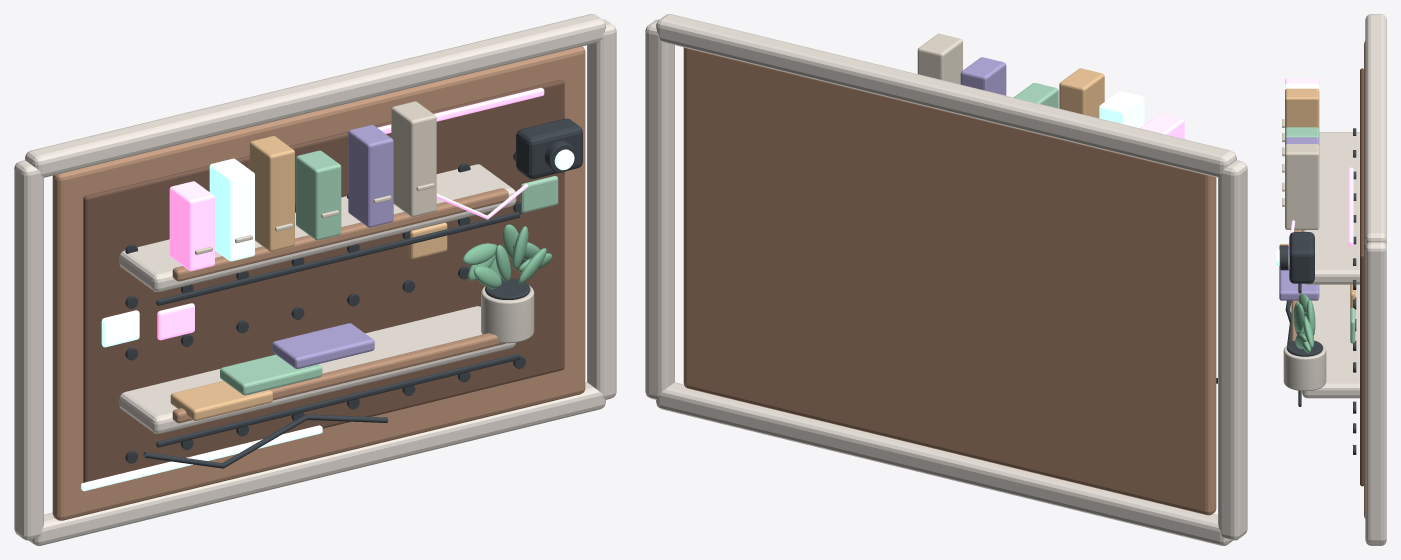
Rendered from p2s_bruno_room_detail_kit.glb.
3 views of the same model, side by side, from view 1: azimuth 30°, elevation 25°; view 2: azimuth 150°, elevation 25°; view 3: azimuth 270°, elevation 25° (orthographic). The views are drawn at different scales.
Visible parts, largest first — view 1: pegboard_shadow_inset, pegboard_back_panel, pegboard_top_frame, pegboard_bottom_frame, pegboard_left_frame, pegboard_right_frame, floating_display_shelf_0, floating_display_shelf_1, upper_book_5, upper_book_2, upper_book_4, upper_book_1 (+18 smaller); view 2: pegboard_back_panel, pegboard_top_frame, pegboard_bottom_frame, pegboard_left_frame, pegboard_right_frame, upper_book_5, upper_book_2, upper_book_4, upper_book_1, upper_book_3, upper_book_0; view 3: pegboard_right_frame, floating_display_shelf_1, pegboard_top_frame, floating_display_shelf_0, upper_book_5, pegboard_shadow_inset, plant_pot, upper_book_2, mini_camera_body, pegboard_back_panel, lower_stacked_book_2, warm_led_bar (+12 smaller).
Part boxes in pixels (x1,y1,x2,y2): pegboard_shadow_inset: (83, 80, 564, 482); pegboard_back_panel: (52, 46, 585, 520); pegboard_top_frame: (25, 14, 605, 177); pegboard_bottom_frame: (29, 382, 605, 545); pegboard_left_frame: (14, 160, 43, 540); pegboard_right_frame: (587, 19, 616, 399); floating_display_shelf_0: (119, 306, 515, 433); floating_display_shelf_1: (119, 164, 516, 292); upper_book_5: (391, 101, 436, 216); upper_book_2: (249, 136, 294, 251); upper_book_4: (348, 125, 393, 227); upper_book_1: (209, 158, 254, 261); pegboard_back_panel: (683, 47, 1216, 515); pegboard_top_frame: (656, 14, 1236, 177); pegboard_bottom_frame: (656, 382, 1232, 545); pegboard_left_frame: (1218, 160, 1247, 540); pegboard_right_frame: (645, 19, 674, 399); upper_book_5: (917, 33, 962, 84); upper_book_2: (1059, 68, 1104, 118); upper_book_4: (960, 57, 1006, 95); upper_book_1: (1099, 91, 1144, 128); upper_book_3: (1014, 83, 1058, 108); upper_book_0: (1140, 113, 1184, 138); pegboard_right_frame: (1365, 242, 1386, 543); floating_display_shelf_1: (1302, 132, 1359, 284); pegboard_top_frame: (1365, 14, 1386, 244); floating_display_shelf_0: (1302, 284, 1359, 398); upper_book_5: (1285, 144, 1319, 229); pegboard_shadow_inset: (1360, 68, 1363, 486); plant_pot: (1283, 345, 1326, 391); upper_book_2: (1285, 88, 1319, 128); mini_camera_body: (1289, 232, 1314, 283); pegboard_back_panel: (1364, 41, 1365, 518); lower_stacked_book_2: (1279, 263, 1319, 300); warm_led_bar: (1348, 167, 1353, 246).
Bounding box in the file's own units: 1.93 × 1.21 × 0.3885.
